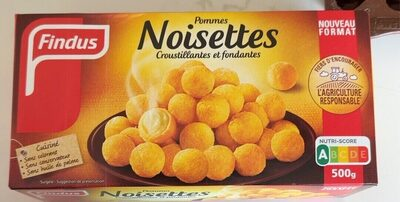Pommes noisettes croustillantes et fondantes: (20, 10, 380, 192)
